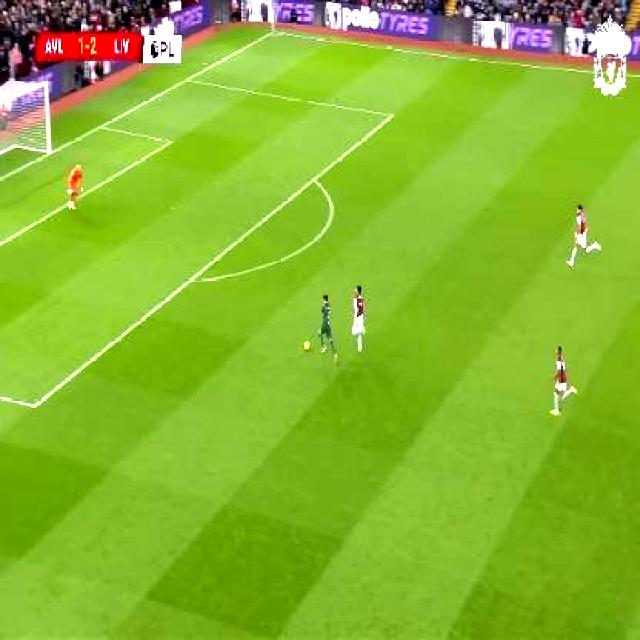bigarea_bottom_inner: (23, 389, 43, 420)
bigarea_top_inner: (383, 103, 399, 125)
bigarea_top_outter: (178, 69, 196, 88)
bottom_arc_area_intersection: (180, 266, 200, 291)
corner: (265, 24, 283, 38)
smallarea_top_inner: (160, 129, 178, 151)
smallarea_top_outter: (91, 116, 109, 136)
top_arc_area_intersection: (304, 168, 322, 188)
